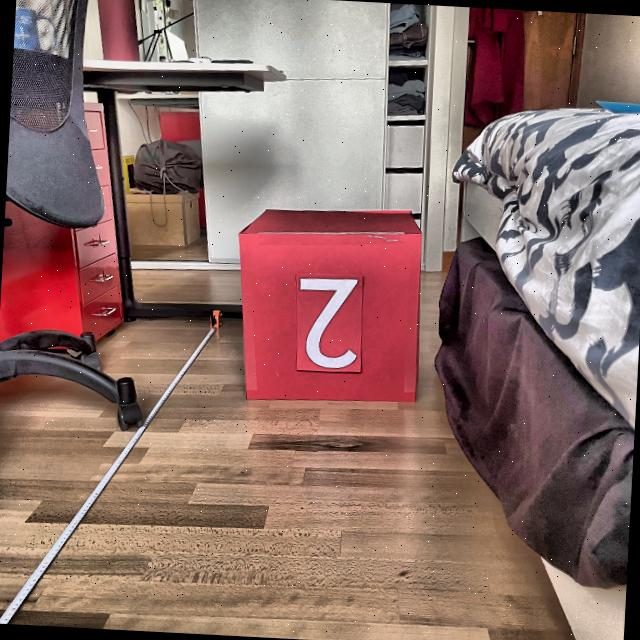red box: (236, 210, 424, 412)
two: (292, 272, 367, 374)
